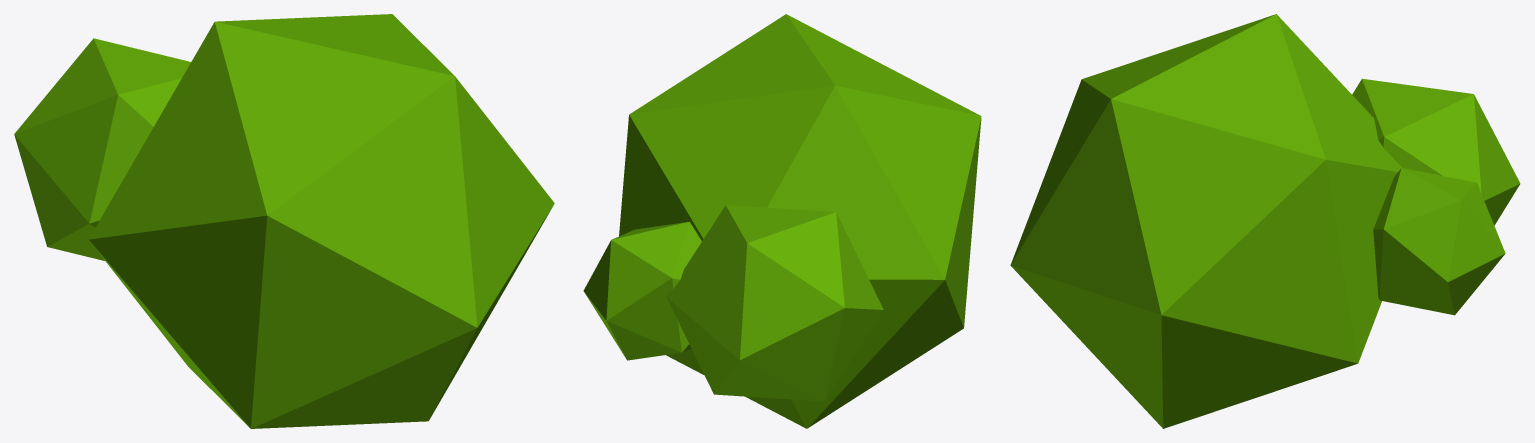
The picture shows the model from 3 angles, left to right: view 1: azimuth 30°, elevation 25°; view 2: azimuth 150°, elevation 25°; view 3: azimuth 270°, elevation 25°; orthographic projection. The views are drawn at different scales.
Parts seen in each view (by area): view 1: Icosphere, Icosphere.001; view 2: Icosphere, Icosphere.001, Icosphere.002; view 3: Icosphere, Icosphere.002, Icosphere.001.
Part boxes in pixels (x1=…): Icosphere: x1=88, y1=14, x2=554, y2=428; Icosphere.001: x1=14, y1=38, x2=190, y2=260; Icosphere: x1=619, y1=14, x2=981, y2=428; Icosphere.001: x1=666, y1=205, x2=883, y2=401; Icosphere.002: x1=583, y1=221, x2=701, y2=360; Icosphere: x1=1010, y1=14, x2=1401, y2=428; Icosphere.002: x1=1373, y1=168, x2=1505, y2=315; Icosphere.001: x1=1352, y1=78, x2=1520, y2=225.
Bounding box in the file's own units: 523 × 487 × 644.
